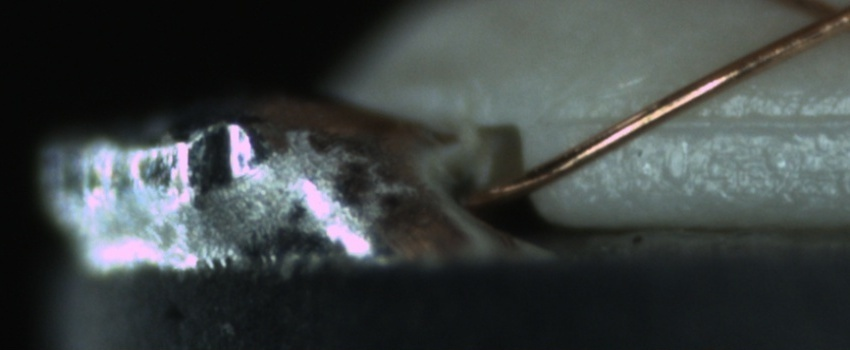CL: (779, 0, 850, 45)
DL: (562, 90, 850, 150)
